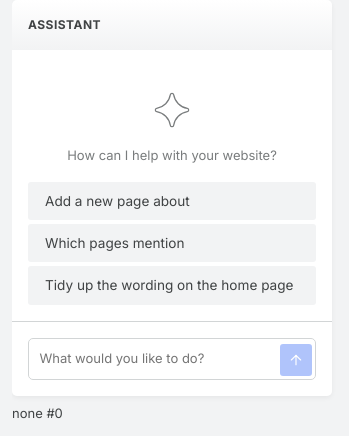
Test case: AssistantPage › starts empty with suggestions that fill the message box
Expected: the text "How can I help with your website?" is shown, top-left (67, 146), bottom-right (277, 166)
Step 1. Click the button "Which pages mention" → [172, 243], box top-left (28, 224), bottom-right (316, 262)
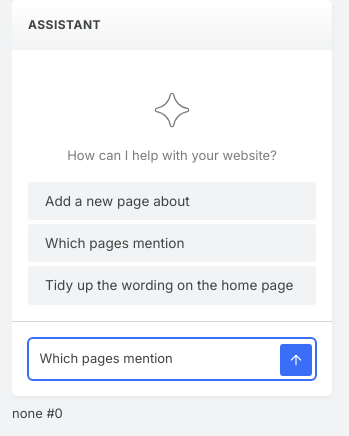
Expected: the text box named "Message the assistant" holds "Which pages mention ", top-left (28, 338), bottom-right (316, 380)
